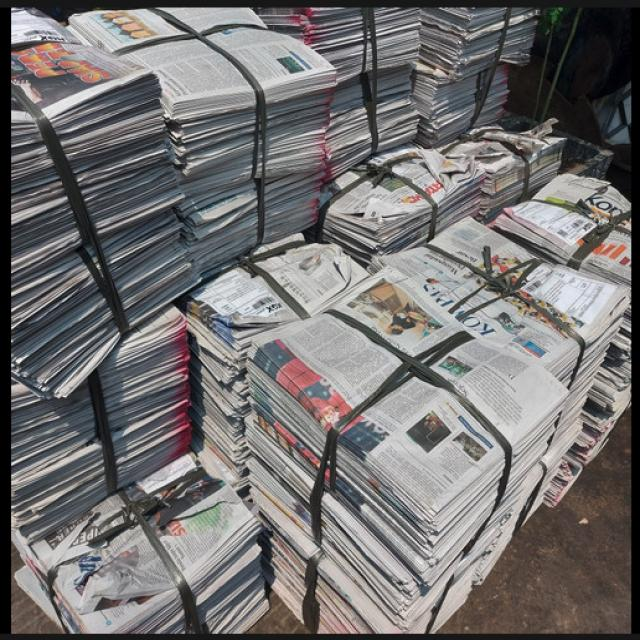Koran: (8, 5, 632, 634)
